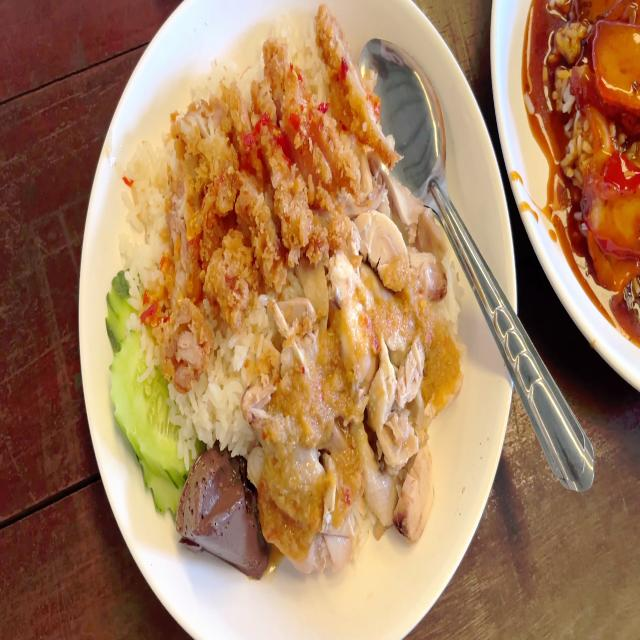boiled_chicken: (237, 202, 469, 575)
boiled_chicken_blood_jelly: (186, 450, 269, 594)
chicken_rice: (116, 6, 464, 564)
cucumber: (94, 267, 195, 516)
fried_chicken: (143, 2, 405, 389)
red_pork: (582, 155, 640, 281), (589, 15, 640, 104)
red_pork_and_crispy_pork: (527, 0, 639, 339)
